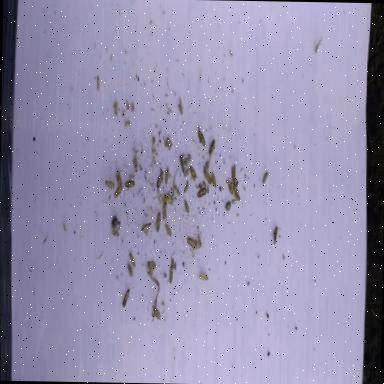pbw: (122, 286, 130, 307), (210, 168, 218, 186), (156, 170, 164, 188), (197, 128, 205, 146), (186, 234, 196, 248), (196, 186, 207, 198), (232, 184, 240, 200), (128, 252, 136, 267), (204, 168, 212, 183), (226, 177, 233, 193), (190, 164, 197, 180), (208, 139, 216, 153), (114, 182, 122, 196), (141, 220, 151, 231), (231, 164, 236, 186), (179, 154, 185, 172), (164, 223, 172, 236), (146, 259, 156, 269), (126, 262, 133, 276), (115, 170, 122, 184), (124, 178, 136, 186), (184, 198, 190, 213), (133, 154, 138, 172), (105, 178, 114, 188), (169, 263, 173, 284), (274, 224, 278, 245), (178, 98, 183, 113), (156, 212, 160, 230), (263, 170, 268, 184), (165, 167, 169, 184), (200, 272, 208, 280), (112, 229, 120, 236), (97, 74, 100, 92)
